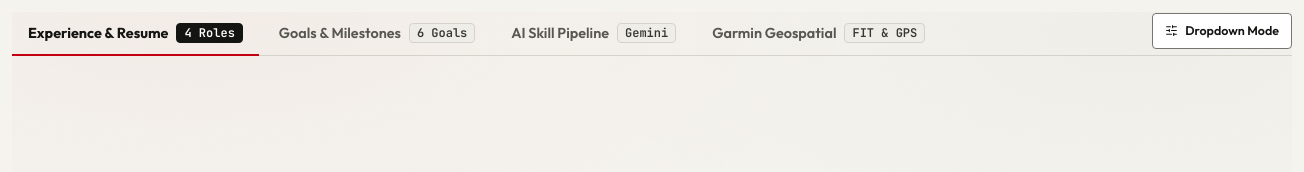
Test case: FeatureTabs Component › toggles dropdown mode on button click for Windows scrollbar accessibility
Click the button titled "Switch to Dropdown View": (1222,30) left=1152, top=12, right=1292, bottom=48
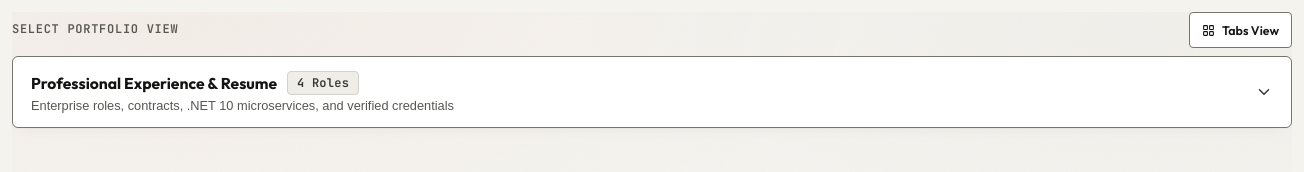
Expected: the text "Tabs View" is shown, left=1222, top=22, right=1279, bottom=38
Expected: the text "Select Portfolio View" is shown, left=12, top=20, right=178, bottom=40
